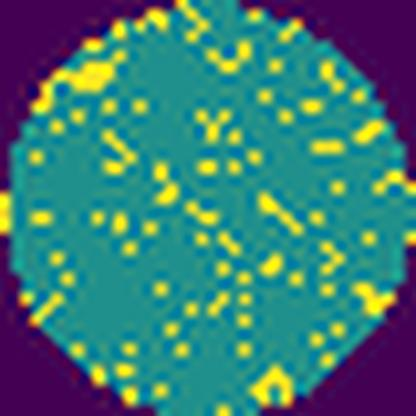Loc: (252, 362, 295, 406), (57, 61, 118, 91)
